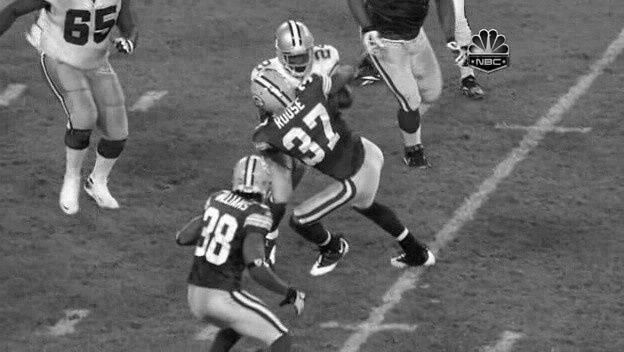person: (279, 27, 316, 75), (278, 27, 315, 75), (280, 27, 317, 75), (279, 26, 316, 74), (279, 28, 316, 76)
target_negative: (285, 209, 552, 277), (168, 240, 433, 305), (320, 18, 381, 194), (541, 86, 590, 142), (368, 313, 386, 324), (603, 100, 605, 116)
